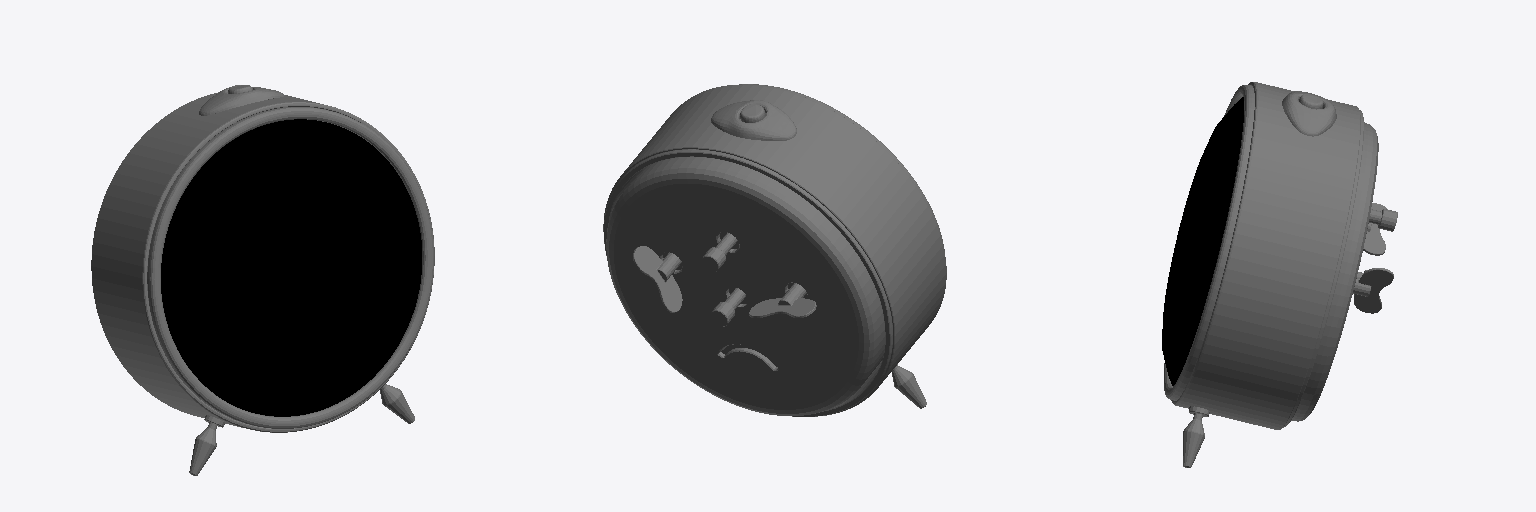
File: ClockAlarm.obj
The picture shows the model from 3 angles: view 1: azimuth 30°, elevation 25°; view 2: azimuth 150°, elevation 25°; view 3: azimuth 270°, elevation 25°; orthographic projection.
Visible parts, largest first — view 1: Object01, Vitiaz__alarmclock; view 2: Vitiaz__alarmclock; view 3: Vitiaz__alarmclock, Object01.
Part boxes in pixels (bbox=[...]): Object01: bbox=[161, 119, 421, 416]; Vitiaz__alarmclock: bbox=[91, 85, 434, 475]; Vitiaz__alarmclock: bbox=[603, 84, 946, 416]; Vitiaz__alarmclock: bbox=[1164, 82, 1397, 467]; Object01: bbox=[1162, 97, 1243, 385].
Size of the model in its own units: 94.81 by 100 by 67.09.